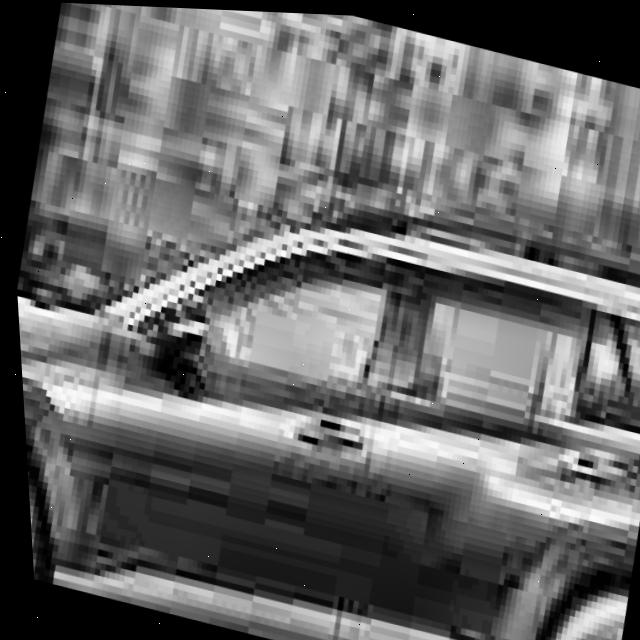light_vehicle: (6, 120, 640, 640)
